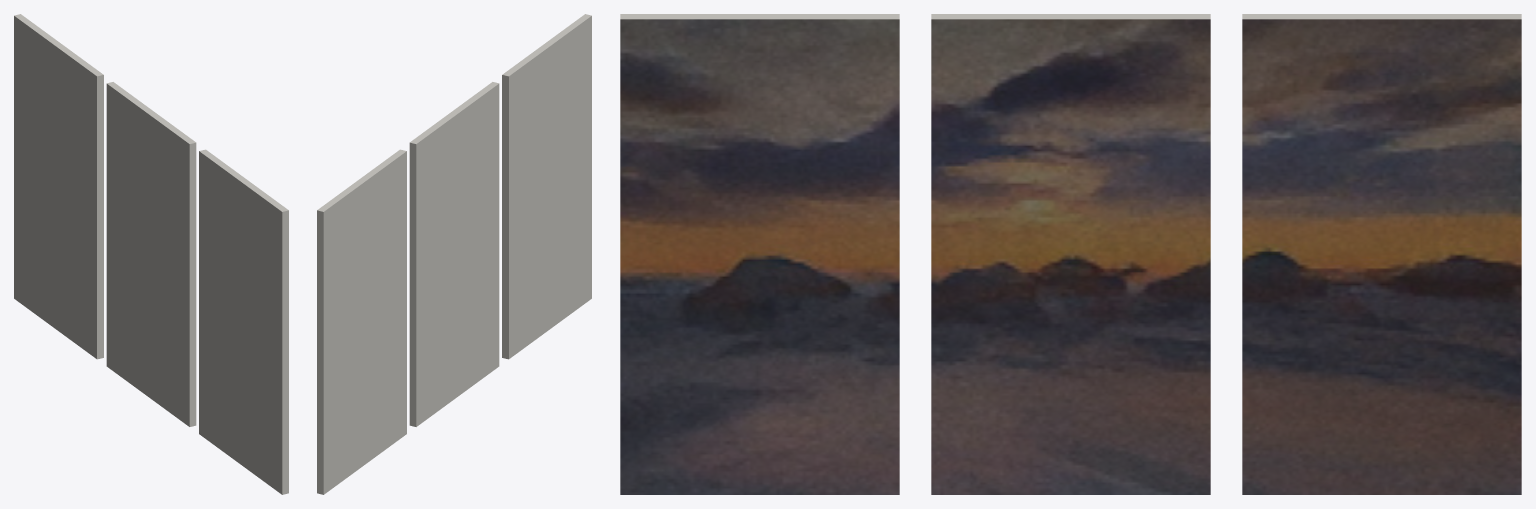
The model's file is modern_three_panel_painting.glb.
3 renders of one model, left to right at view 1: azimuth 30°, elevation 25°; view 2: azimuth 150°, elevation 25°; view 3: azimuth 270°, elevation 25°, orthographic. The views are drawn at different scales.
Parts seen in each view (by area): view 1: Mid, Left, Right; view 2: Mid, Left, Right; view 3: Mid, Left, Right.
Part boxes in pixels (bbox=[...]): Mid: bbox=[106, 82, 196, 426]; Left: bbox=[199, 149, 288, 494]; Right: bbox=[14, 14, 103, 359]; Mid: bbox=[409, 82, 499, 426]; Left: bbox=[502, 14, 591, 359]; Right: bbox=[317, 149, 406, 494]; Mid: bbox=[931, 14, 1210, 494]; Left: bbox=[620, 14, 899, 494]; Right: bbox=[1242, 14, 1521, 494].
Size of the model in its own units: 0.0124 by 0.5 by 0.8589.
Materials: 2 (1 with a texture image).
